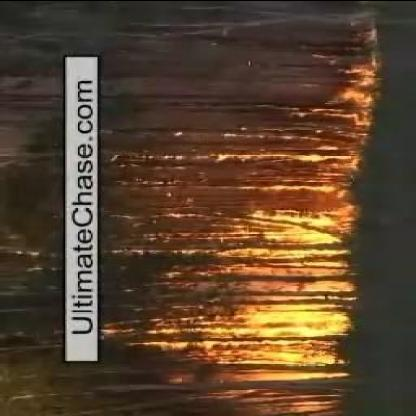foggia-v2-map80-epoch100 - v1 4323: (240, 304, 352, 334), (275, 209, 341, 243)
